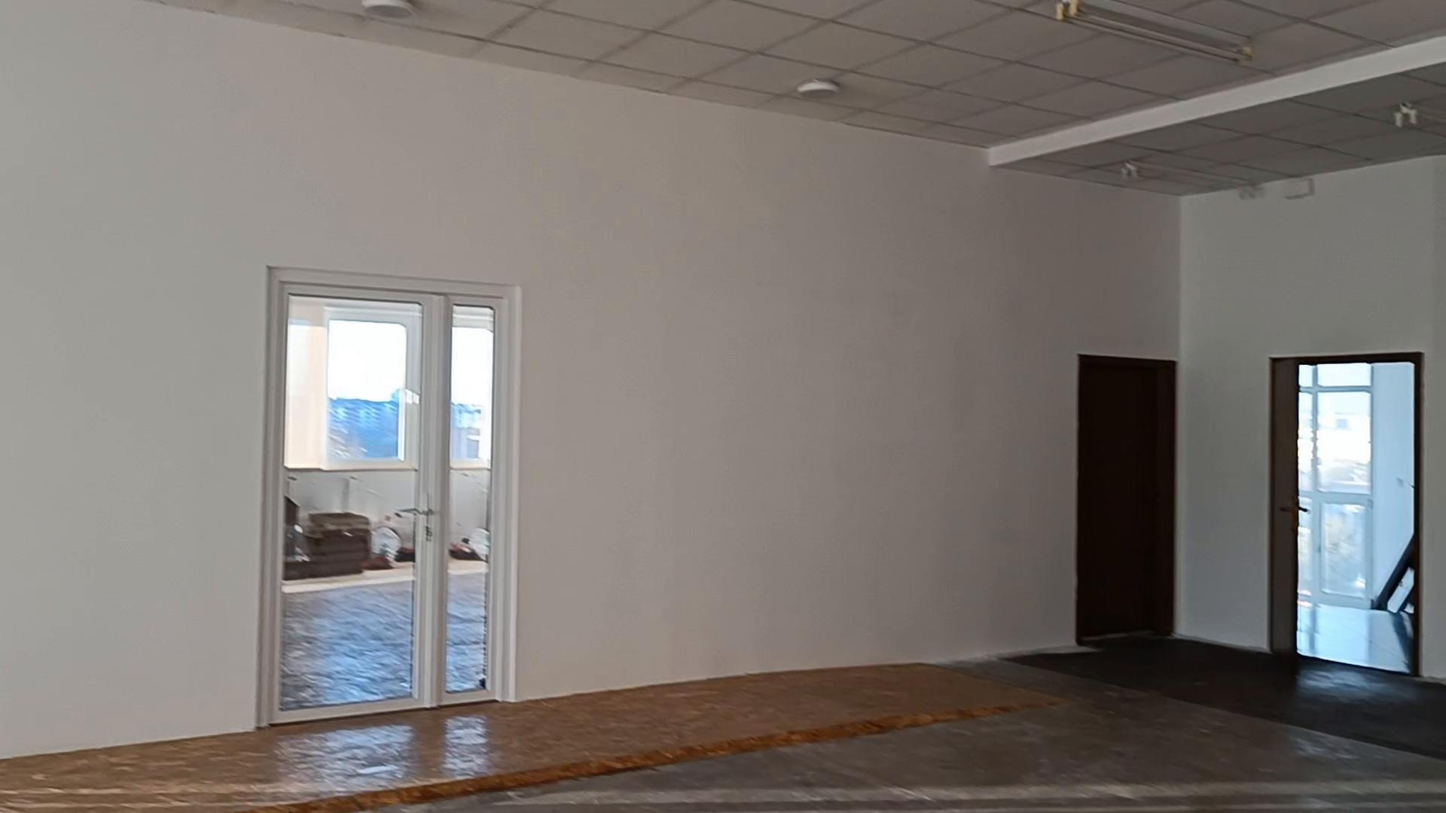ceiling: (153, 0, 1445, 147), (1011, 65, 1445, 194)
floor: (0, 638, 1445, 812)
wall: (0, 0, 1445, 756)
